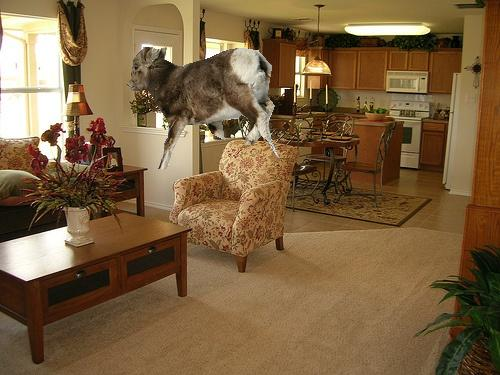tampered: (130, 48, 279, 169)
